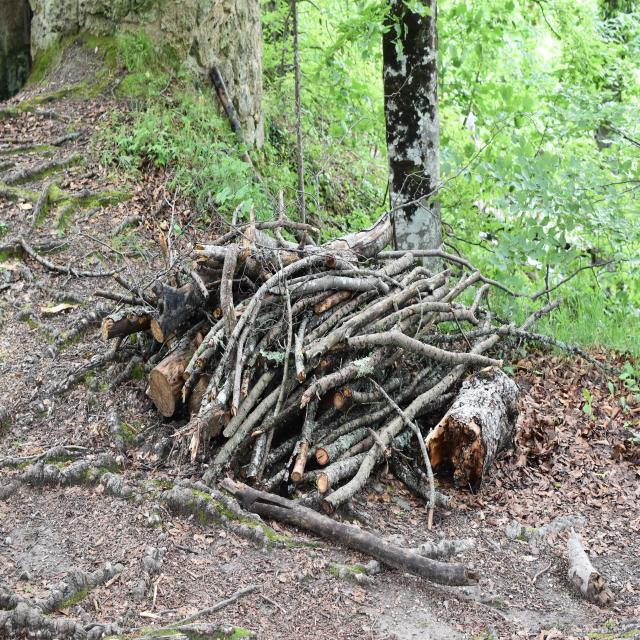restos de madeira: (246, 238, 384, 464), (358, 263, 494, 396), (146, 321, 260, 444), (435, 368, 517, 493), (194, 224, 288, 330), (366, 377, 430, 525), (103, 278, 215, 350), (559, 524, 617, 608), (135, 588, 242, 633), (491, 296, 563, 348), (2, 443, 96, 477), (159, 177, 187, 268), (570, 348, 634, 386), (17, 238, 72, 276), (92, 55, 132, 103), (444, 268, 487, 304), (55, 182, 123, 204), (28, 178, 53, 227), (27, 104, 85, 124), (93, 287, 145, 305), (112, 213, 143, 238), (52, 129, 88, 147), (0, 237, 28, 259), (157, 66, 174, 99)
